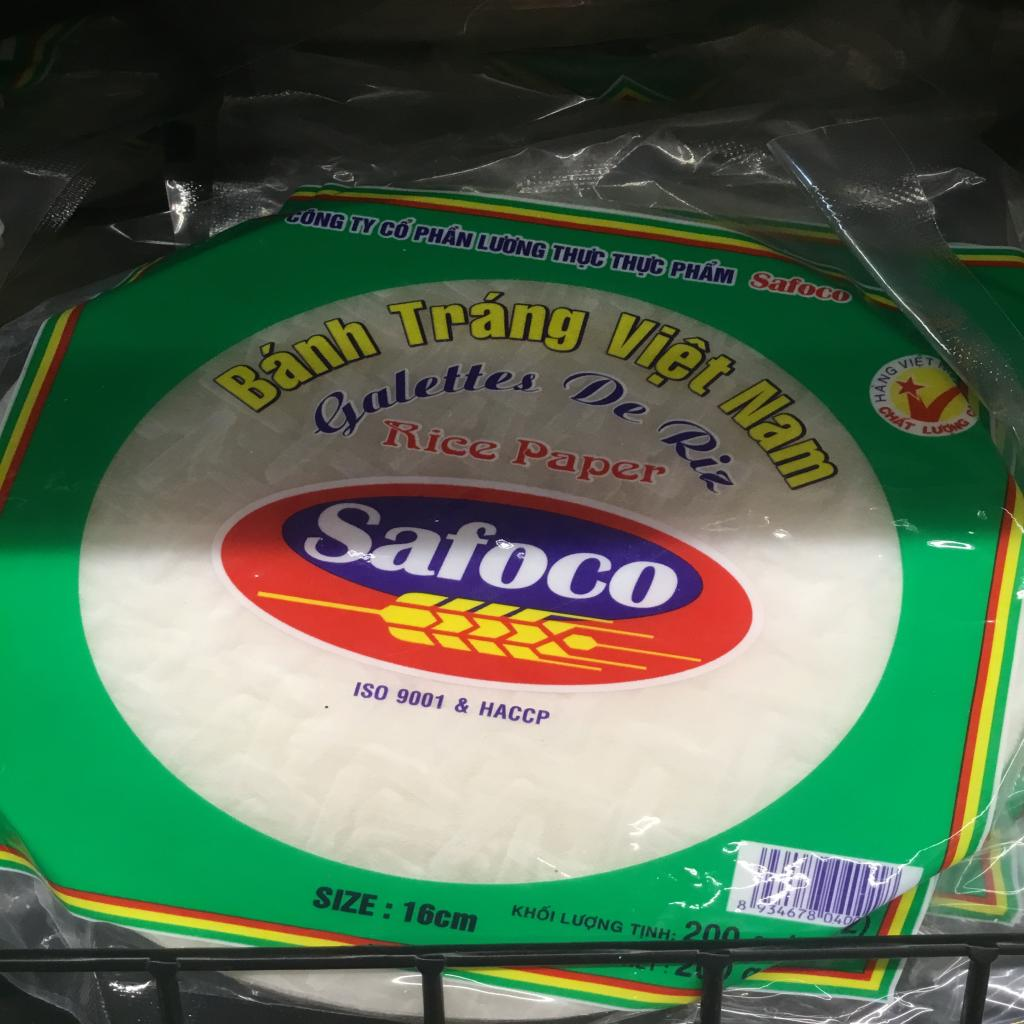text: (293, 493, 700, 618), (282, 323, 544, 447), (191, 295, 392, 419), (705, 363, 862, 495), (367, 288, 606, 356), (595, 304, 755, 404), (641, 400, 762, 498), (504, 434, 670, 498), (551, 357, 667, 434), (378, 412, 508, 466), (745, 266, 854, 306), (395, 895, 486, 937), (307, 883, 382, 921), (666, 252, 742, 288), (477, 698, 554, 729), (475, 229, 548, 261), (680, 917, 747, 951), (410, 220, 480, 250), (547, 240, 611, 272), (606, 249, 668, 281), (280, 204, 348, 233), (863, 358, 903, 404), (559, 908, 627, 935), (870, 404, 920, 436), (752, 900, 819, 923), (393, 686, 447, 713), (922, 415, 978, 441), (627, 921, 679, 944), (508, 901, 560, 923), (890, 350, 938, 373), (376, 216, 419, 241), (350, 679, 396, 702), (346, 212, 383, 237), (823, 910, 855, 927), (452, 695, 475, 716), (964, 404, 981, 421), (734, 897, 752, 912)
